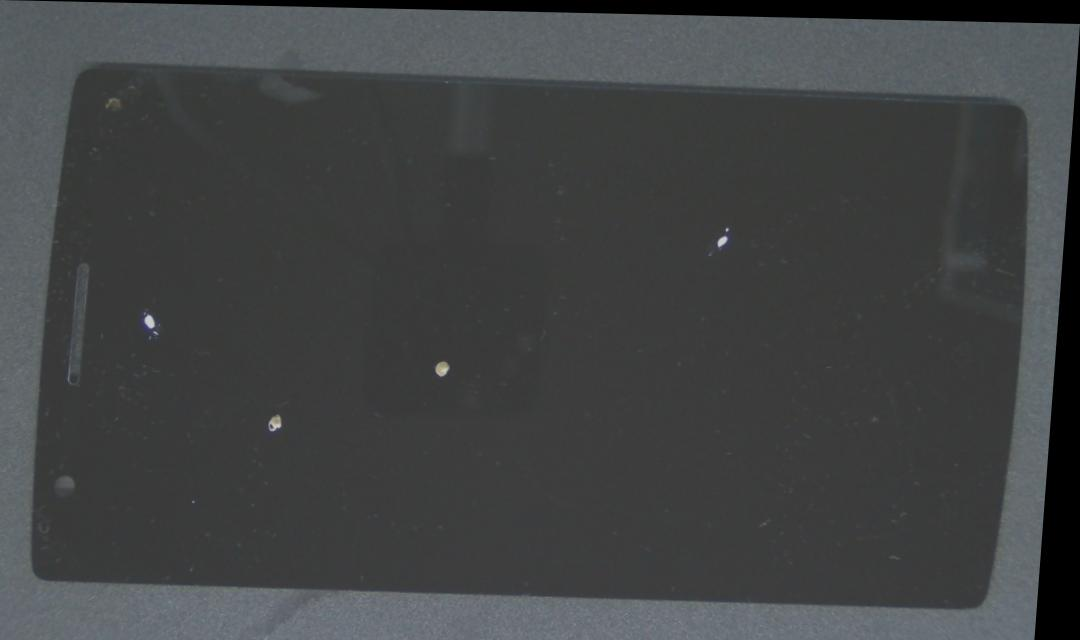Scratches: (133, 304, 176, 348), (260, 402, 308, 441), (427, 350, 470, 393), (702, 218, 738, 262)
